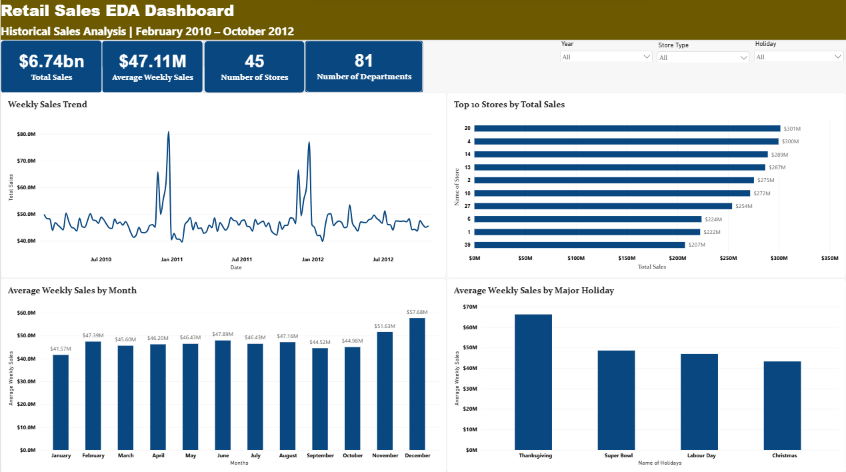

This screenshot's page, from the dashboard's own definition file:
{"tool":"powerbi","page":{"name":"Page 1","canvas":[1920,1080],"ordinal":0},"visuals":[{"type":"textbox","box":[10,0,280,280],"z":0},{"type":"textbox","box":[10,290,280,280],"z":1000},{"type":"textbox","title":"  Retail Sales EDA Dashboard","box":[0,0,1920,92],"z":2000},{"type":"cardVisual","title":"Total Sales","fields":{"Data":["retail_analysis_data.Total Sales"]},"box":[0,92,230,120],"z":3000},{"type":"cardVisual","fields":{"Data":["retail_analysis_data.Average Weekly Sales"]},"box":[230,92,230,120],"z":4000},{"type":"cardVisual","title":"Number of Departments","fields":{"Data":["retail_analysis_data.Number of Departments"]},"box":[690,92.5,270,120],"z":5000},{"type":"lineChart","title":"Weekly Sales Trend","fields":{"Category":["retail_analysis_data.Date"],"Y":["retail_analysis_data.Total Sales"]},"box":[0,212.2,1012.2,422],"z":6000},{"type":"clusteredColumnChart","title":"Average Weekly Sales by Month","fields":{"Category":["retail_analysis_data.Month_Name"],"Y":["retail_analysis_data.Average Weekly Sales"]},"box":[0,633.3,1012.2,443.9],"z":7000},{"type":"cardVisual","title":"Number of Departments","fields":{"Data":["retail_analysis_data.Number of Stores"]},"box":[460,92,230,120],"z":8000},{"type":"clusteredBarChart","title":"Top 10 Stores by Total Sales","fields":{"Category":["retail_analysis_data.Store"],"Y":["retail_analysis_data.Total Sales"]},"box":[1012.2,212.2,907.3,422],"z":9000},{"type":"clusteredColumnChart","title":"Average Weekly Sales by Major Holiday","fields":{"Category":["retail_analysis_data.Holiday_Name"],"Y":["retail_analysis_data.Average Weekly Sales"]},"box":[1012.2,634.1,907.3,443.9],"z":10000},{"type":"slicer","title":"Year","fields":{"Values":["retail_analysis_data.Year"]},"box":[1264.9,93,220.5,47.7],"z":11000},{"type":"slicer","title":"Year","fields":{"Values":["retail_analysis_data.Type"]},"box":[1486,94.7,220.5,47.7],"z":11001},{"type":"slicer","title":"Year","fields":{"Values":["retail_analysis_data.Holiday_Name"]},"box":[1705.3,93,214,47.4],"z":11002}]}

Visuals, with their boxes in screenshot pixels (x1, y1, x2, y2), scaled from the page's 1920x1080 canvas onto the 846x472 screenshot:
textbox: left=4, top=0, right=128, bottom=122
textbox: left=4, top=127, right=128, bottom=249
"  Retail Sales EDA Dashboard" textbox: left=0, top=0, right=845, bottom=40
"Total Sales" cardVisual: left=0, top=40, right=101, bottom=93
cardVisual - retail_analysis_data.Average Weekly Sales: left=101, top=40, right=203, bottom=93
"Number of Departments" cardVisual: left=304, top=40, right=423, bottom=93
"Weekly Sales Trend" lineChart: left=0, top=93, right=446, bottom=277
"Average Weekly Sales by Month" clusteredColumnChart: left=0, top=277, right=446, bottom=471
"Number of Departments" cardVisual: left=203, top=40, right=304, bottom=93
"Top 10 Stores by Total Sales" clusteredBarChart: left=446, top=93, right=845, bottom=277
"Average Weekly Sales by Major Holiday" clusteredColumnChart: left=446, top=277, right=845, bottom=471
"Year" slicer: left=557, top=41, right=655, bottom=61
"Year" slicer: left=655, top=41, right=752, bottom=62
"Year" slicer: left=751, top=41, right=845, bottom=61
